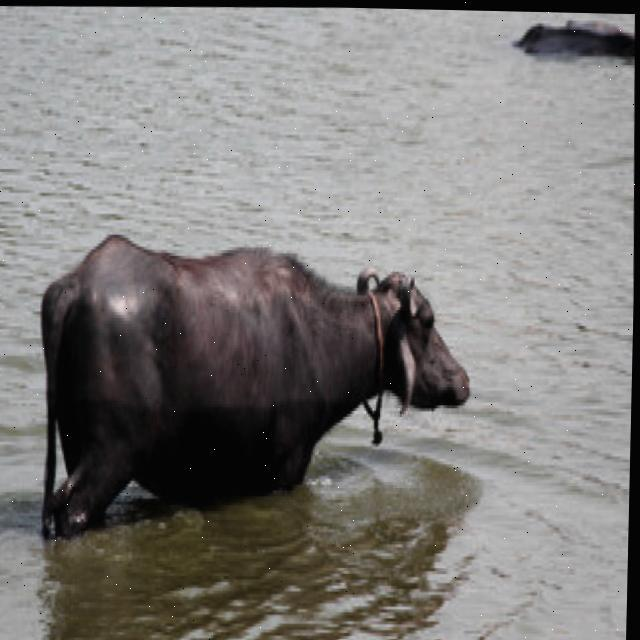Buffalo: (30, 217, 477, 549)
